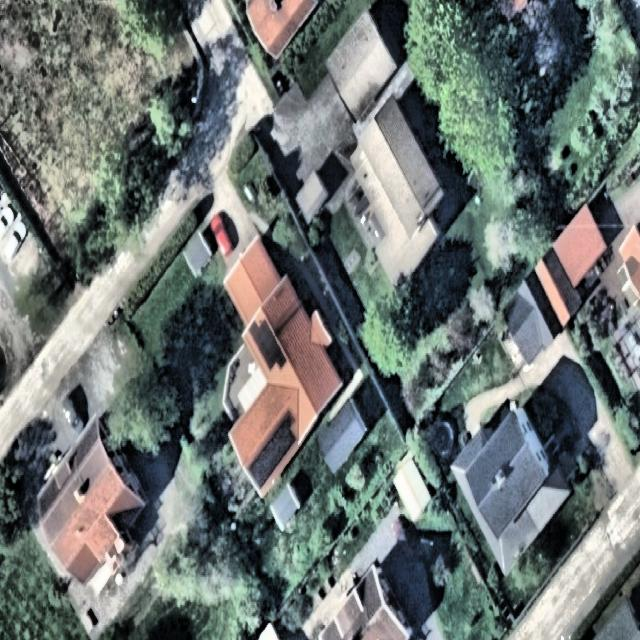roof_pv: (245, 406, 299, 492), (250, 318, 288, 378)
